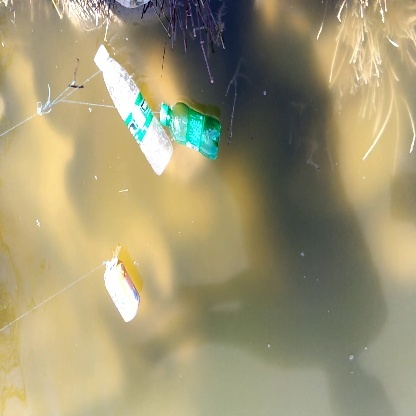bottle: (157, 96, 226, 162)
